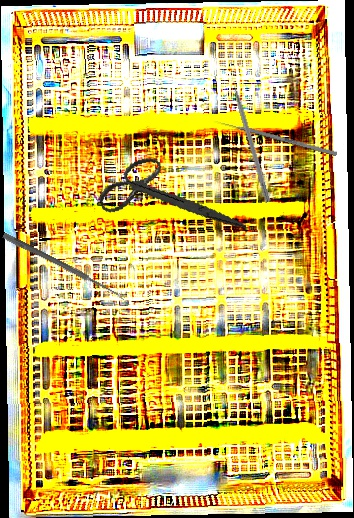Iris Scissors: (92, 138, 247, 262)
Pusher: (227, 70, 273, 203), (213, 118, 338, 157)
Surgical Spoon: (1, 232, 127, 301)
